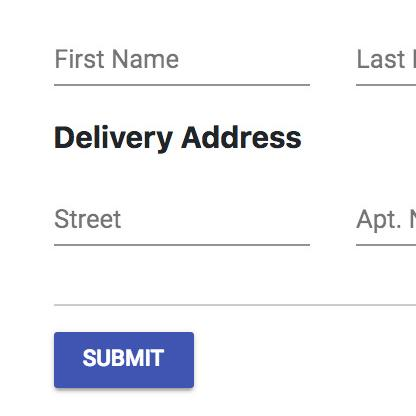button: (50, 329, 199, 395)
field: (48, 37, 314, 89), (48, 201, 316, 250)
